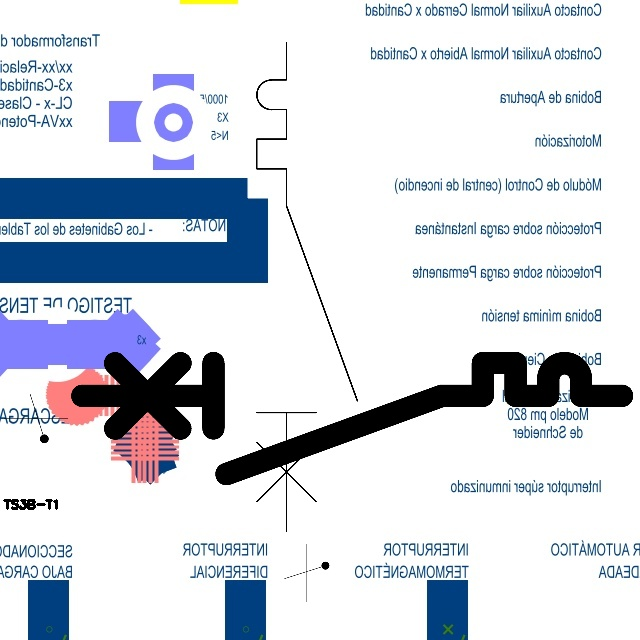interruptor_termomagnetico: (68, 349, 636, 488), (244, 30, 370, 544)
